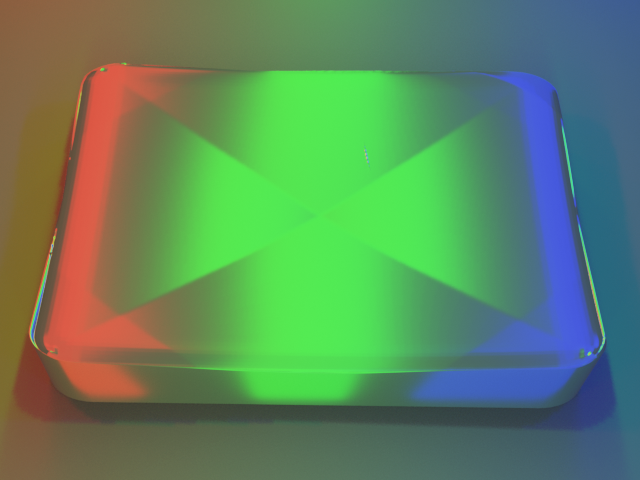scratch: (308, 106, 436, 185)
smash: (0, 0, 639, 479)
